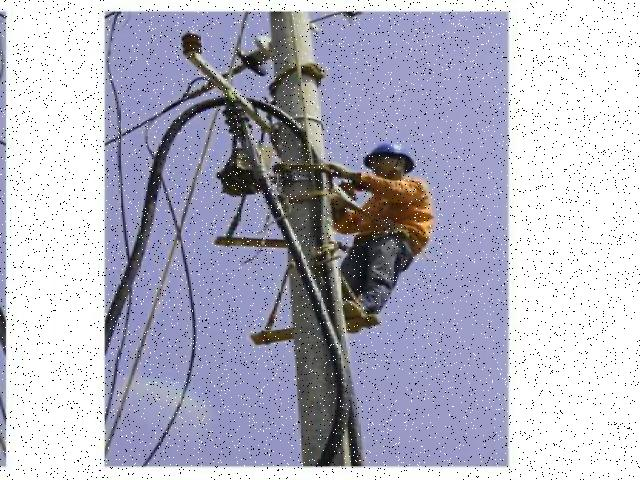Helmet: (358, 137, 419, 175)
